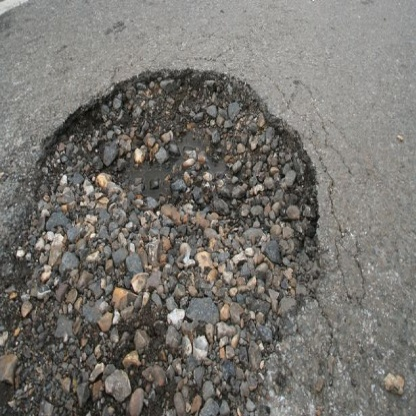pothole: (17, 57, 330, 333)
